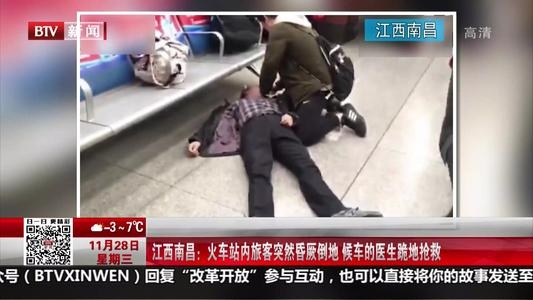falling: (184, 80, 386, 218)
